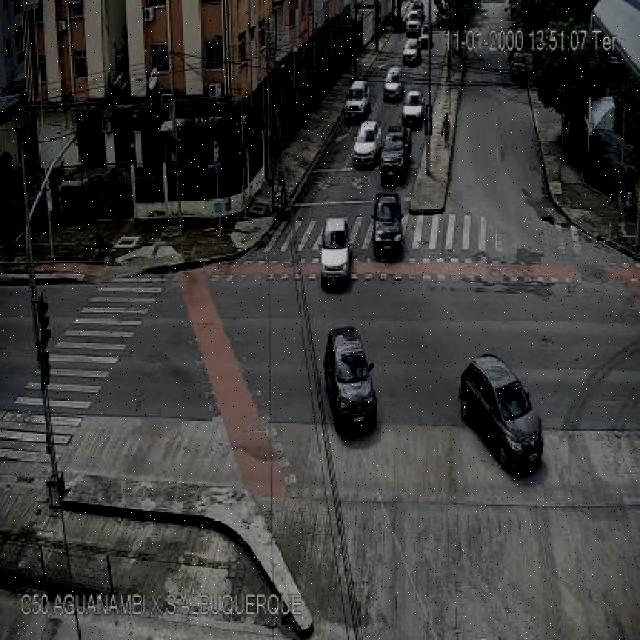Car: (459, 353, 544, 469), (322, 322, 381, 434), (317, 218, 352, 290), (369, 193, 405, 257), (381, 126, 412, 179), (353, 120, 383, 168), (343, 80, 371, 120), (380, 64, 406, 105), (401, 89, 426, 127), (404, 8, 424, 36), (401, 38, 420, 67)
